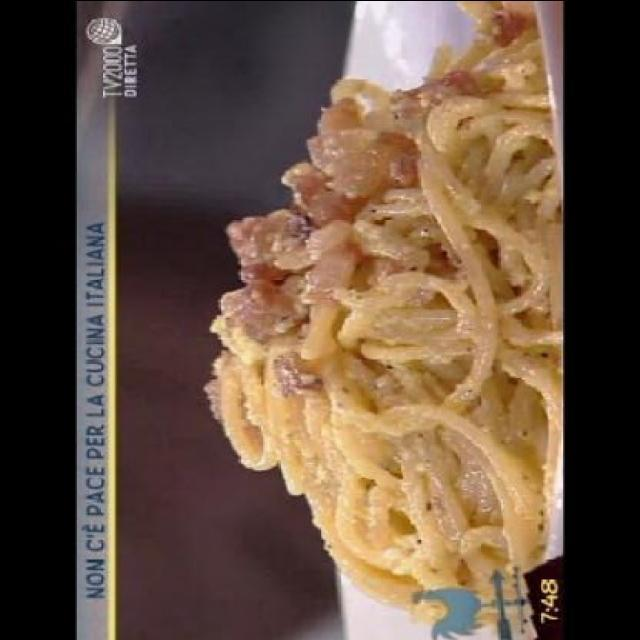Pasta with carbonara sauce: (186, 19, 600, 602)
